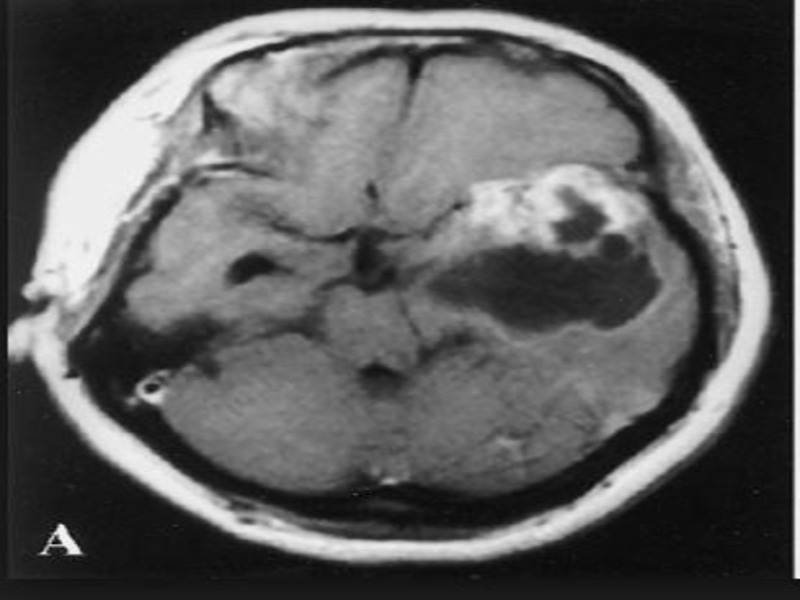tumor: (460, 155, 650, 280)
